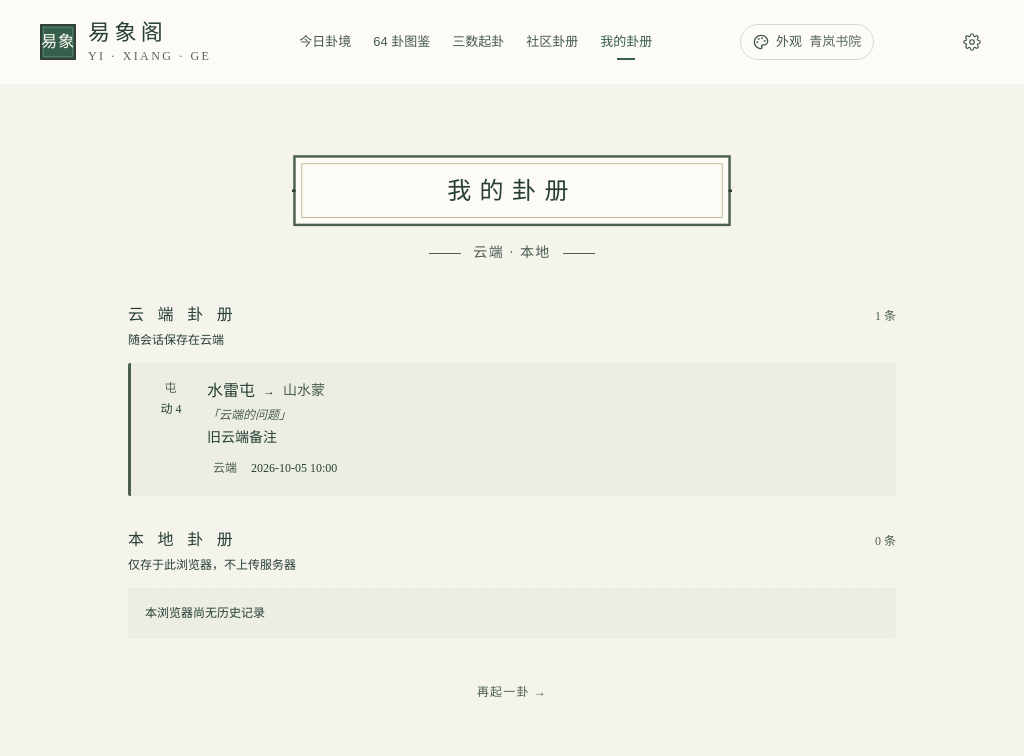
Scenario: Records page › renders a cloud record with a 云端 badge and shows its detail on click
Expected: the text "水雷屯" is shown, [207, 378, 255, 402]
Expected: the text "屯" is shown, [164, 380, 178, 394]
Click the button "水雷屯": click(231, 390) [128, 362, 896, 496]
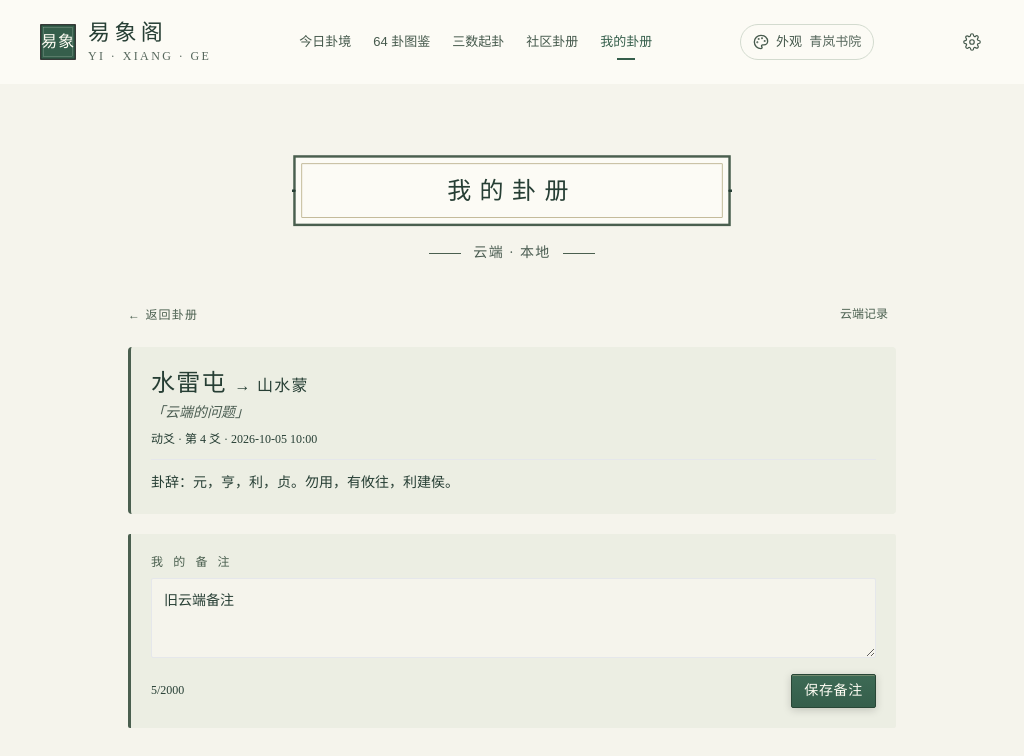
Expected: the text "「云端的问题」" is shown, [151, 404, 249, 420]
Expected: the button "← 返回卦册" is shown, [128, 307, 198, 323]
Expected: the text "云端记录" is shown, [840, 307, 888, 321]
